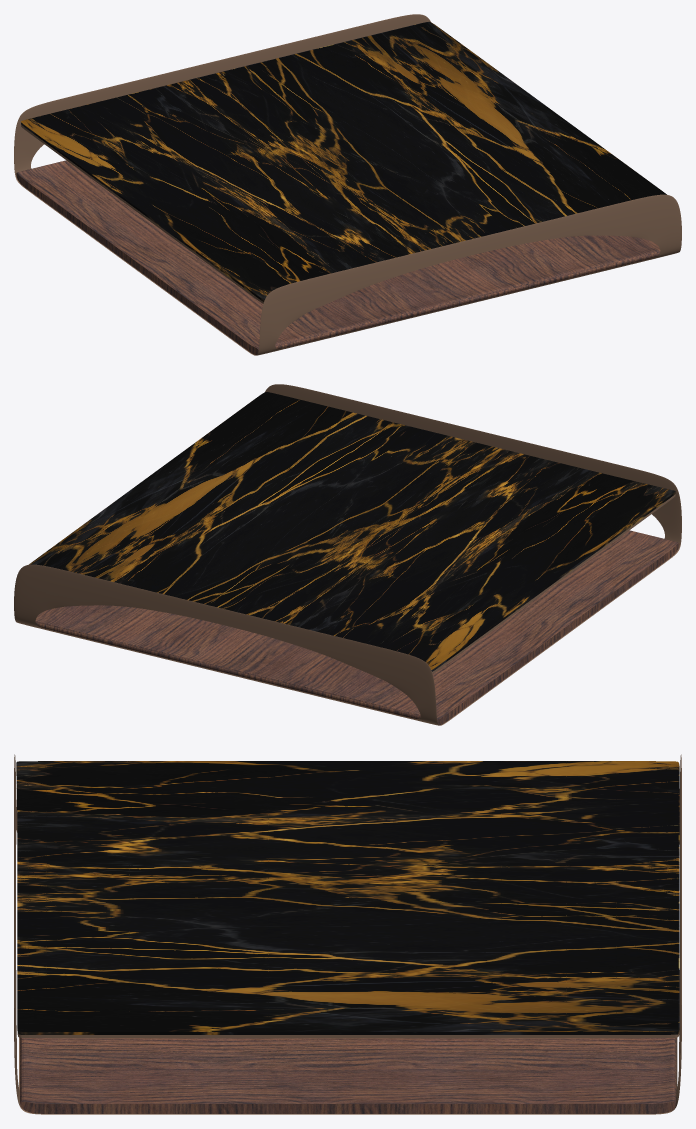
Rendered from St_Hilker_Detmold.glb.
3 views of the same model, one above another, from view 1: azimuth 30°, elevation 25°; view 2: azimuth 150°, elevation 25°; view 3: azimuth 270°, elevation 25° (orthographic). The views are drawn at different scales.
Visible parts, largest first — view 1: Detmold; view 2: Detmold; view 3: Detmold.
Boxes of the visible parts, x1=… form: Detmold: x1=14, y1=14, x2=681, y2=355; Detmold: x1=14, y1=384, x2=681, y2=725; Detmold: x1=14, y1=754, x2=681, y2=1114.
Size of the model in its own units: 0.9177 by 0.1749 by 0.9295.
4 materials, 2 textured.
